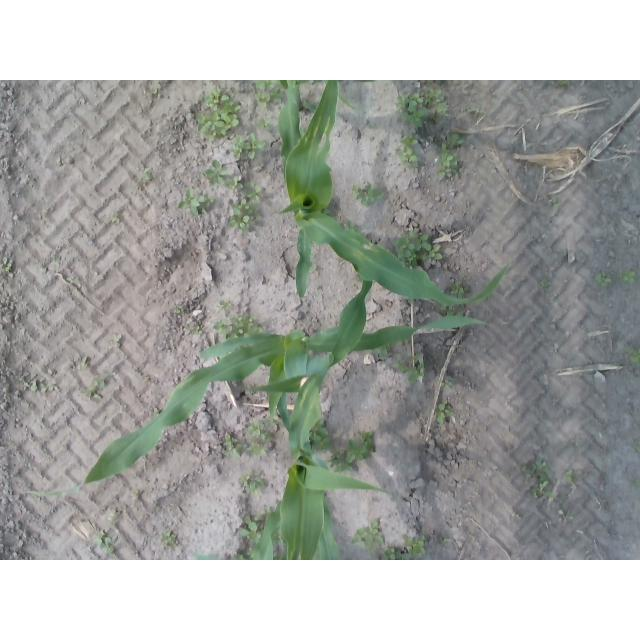Maize: (32, 316, 488, 496), (194, 281, 393, 560), (277, 80, 509, 306)
Weeds: (399, 85, 450, 127), (195, 101, 241, 137), (400, 230, 433, 260), (353, 520, 384, 549), (180, 192, 213, 216), (355, 182, 386, 206), (214, 318, 255, 335), (257, 81, 283, 107), (235, 134, 262, 159), (433, 155, 460, 177), (204, 161, 228, 184), (240, 472, 264, 494), (403, 536, 427, 557), (441, 132, 466, 152), (332, 451, 353, 473), (401, 360, 424, 380), (345, 442, 367, 462), (240, 516, 262, 536), (207, 88, 230, 107), (314, 427, 333, 450), (400, 147, 421, 167), (525, 461, 548, 479), (97, 536, 120, 553), (423, 245, 441, 264), (248, 182, 264, 203), (89, 382, 107, 399), (230, 215, 250, 230), (534, 481, 550, 499), (161, 532, 179, 548), (435, 402, 449, 422), (378, 546, 398, 560), (231, 197, 249, 212), (226, 176, 242, 192), (248, 439, 265, 454), (400, 132, 420, 144), (596, 272, 612, 287), (452, 281, 469, 295), (249, 423, 264, 438), (223, 434, 238, 449), (28, 382, 47, 393), (219, 300, 233, 313), (622, 270, 636, 283), (3, 257, 14, 271), (361, 432, 375, 443), (563, 469, 574, 483), (114, 332, 123, 348), (141, 168, 152, 180), (193, 326, 204, 337), (630, 350, 640, 362), (259, 121, 270, 130), (442, 380, 452, 389), (176, 306, 185, 314), (113, 213, 119, 224), (551, 196, 558, 205), (542, 280, 551, 287), (151, 87, 158, 94)
